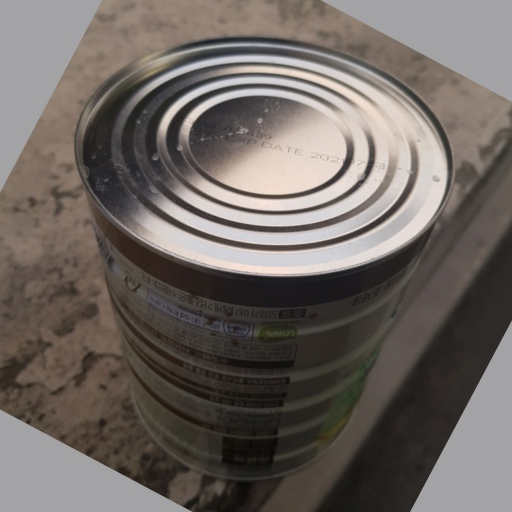Metal_1: (72, 33, 454, 479)
